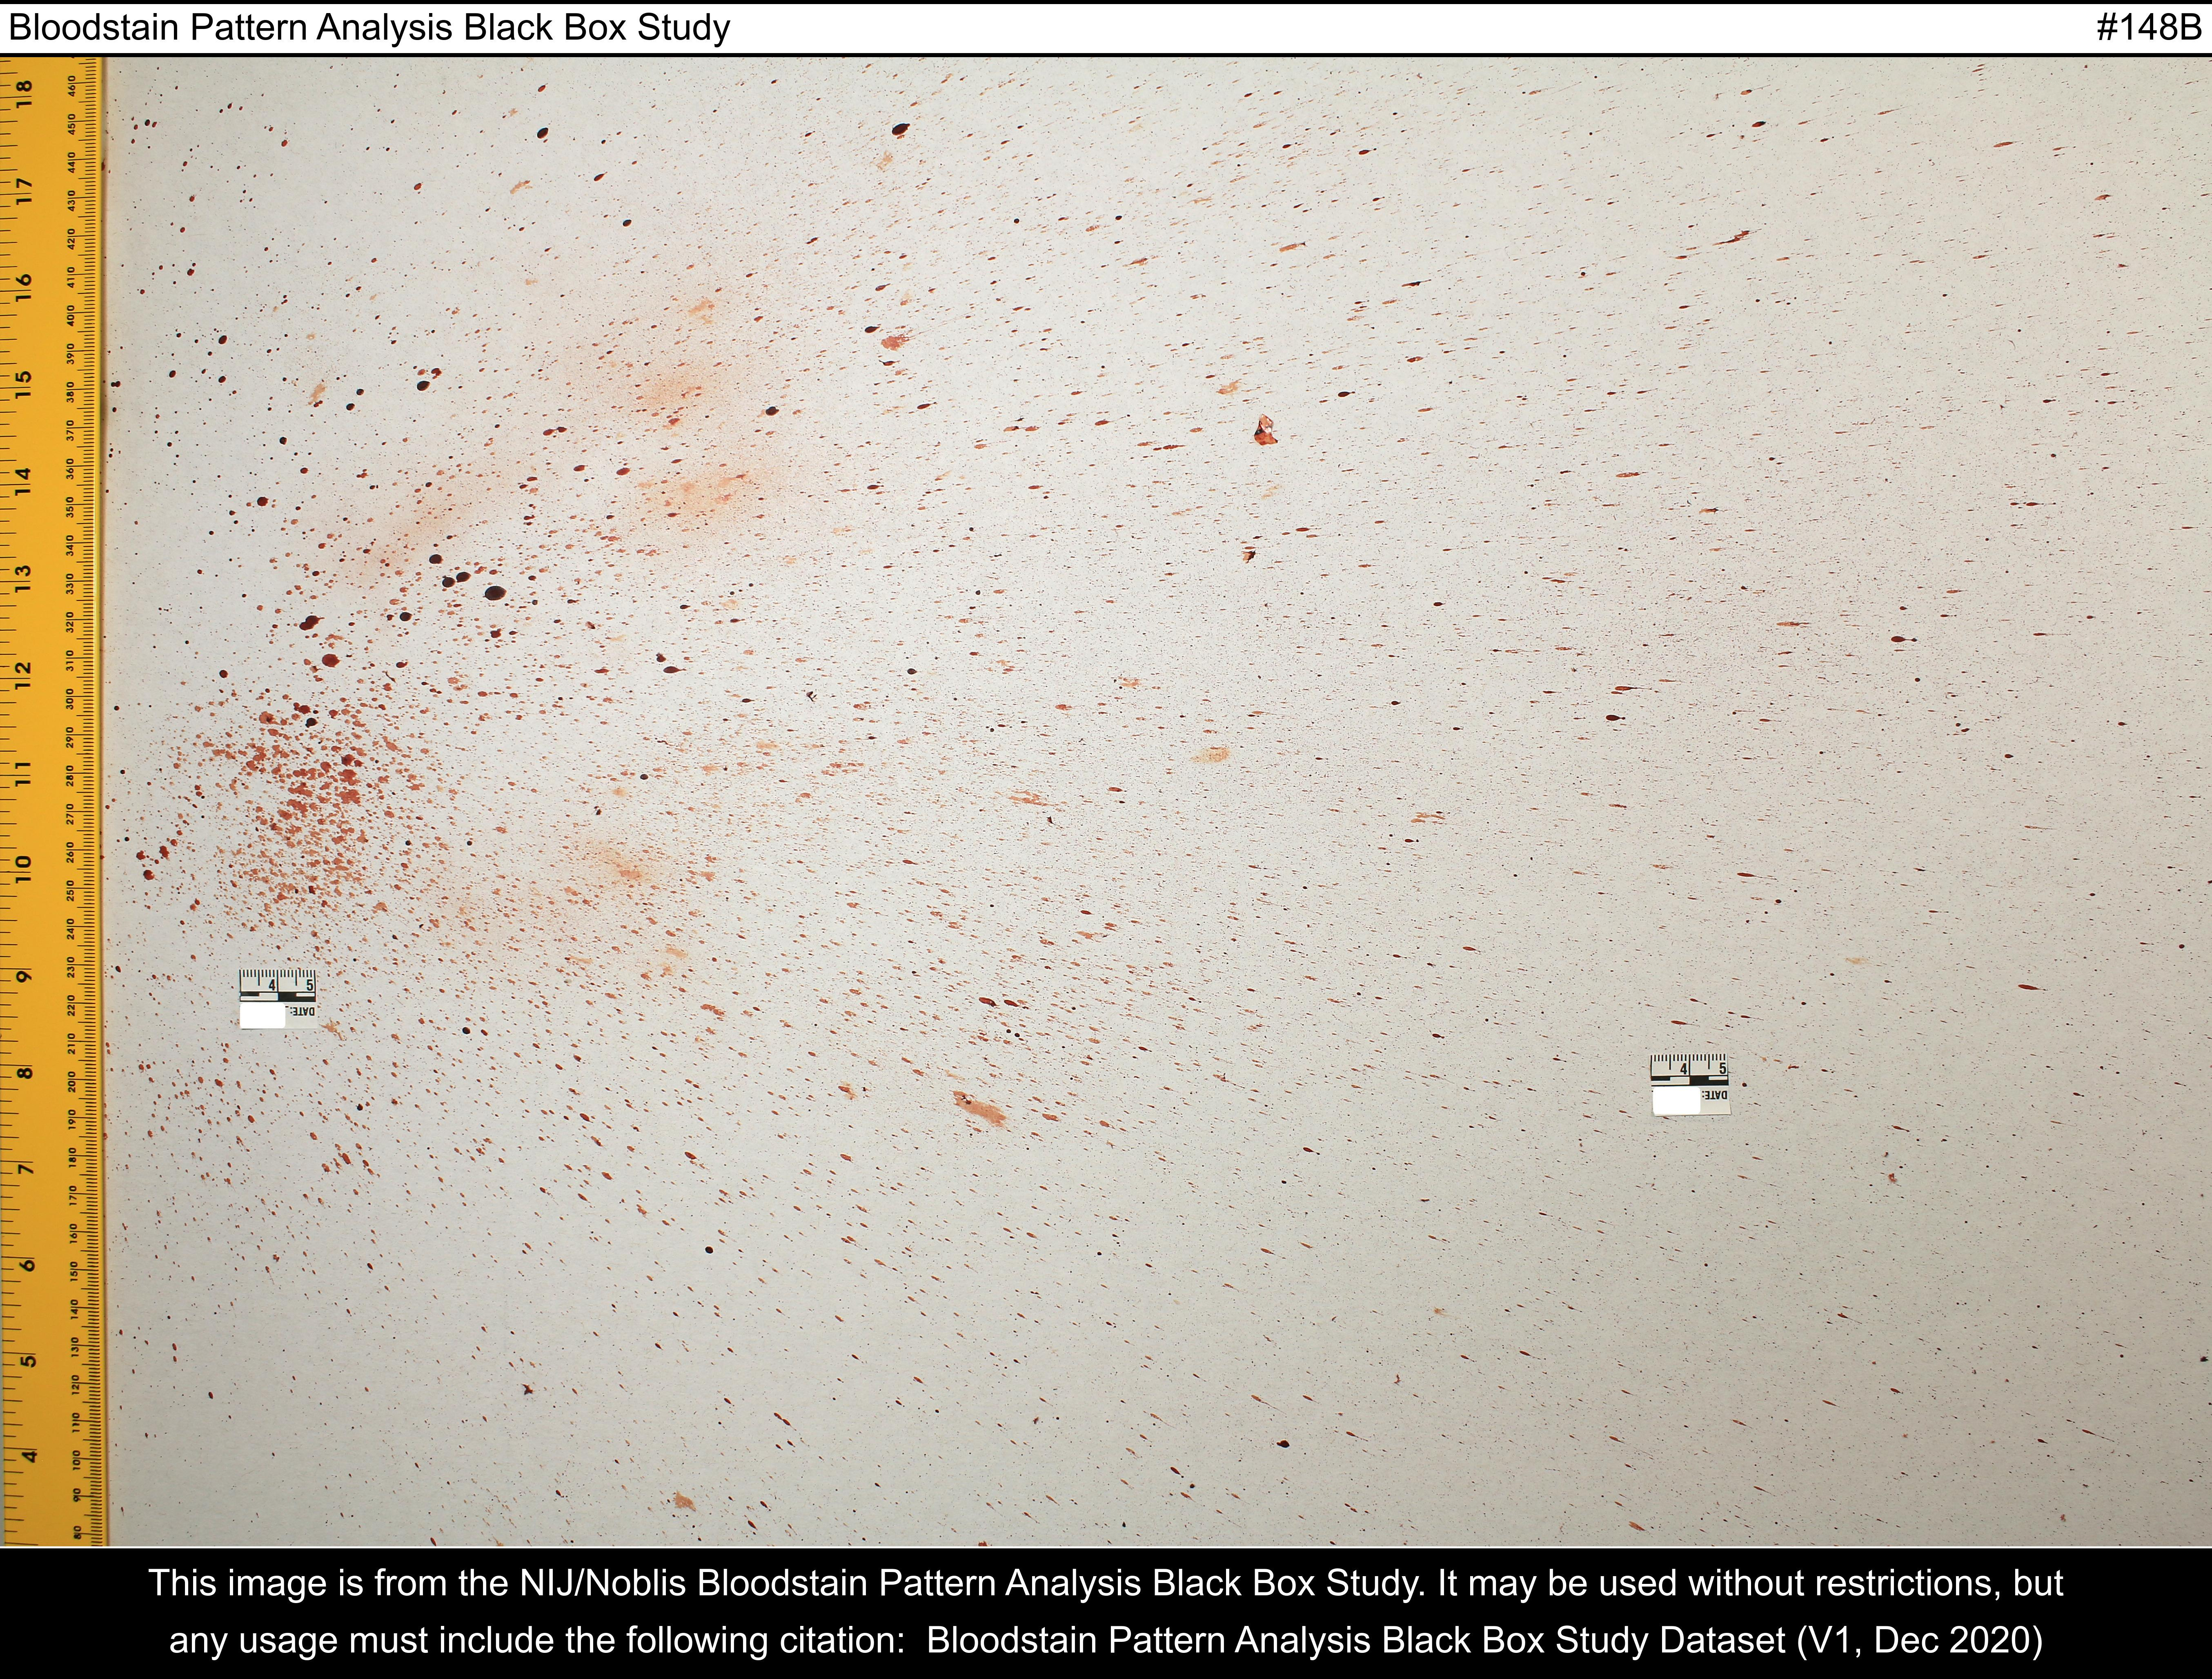Impact: (113, 60, 1404, 1540)
